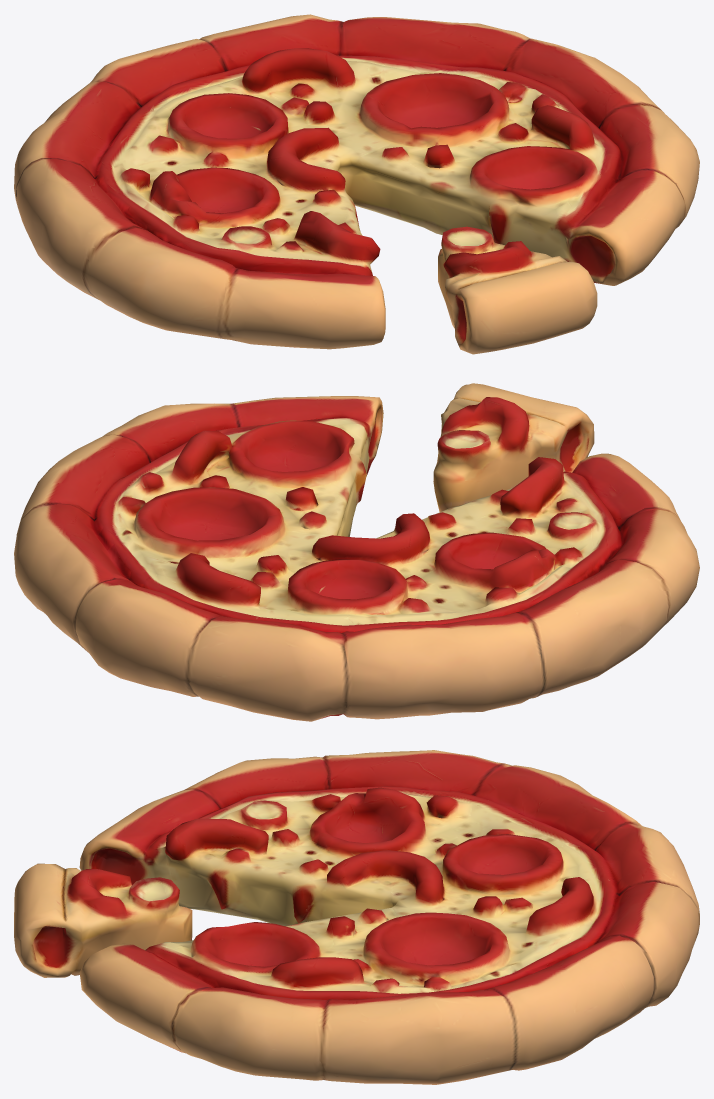
File: pizza.glb
3 renders of one model, top to bottom at view 1: azimuth 30°, elevation 25°; view 2: azimuth 150°, elevation 25°; view 3: azimuth 270°, elevation 25°, orthographic. The views are drawn at different scales.
Visible parts, largest first — view 1: Mesh_0; view 2: Mesh_0; view 3: Mesh_0.
Boxes of the visible parts, bbox=[...] form: Mesh_0: bbox=[14, 14, 699, 354]; Mesh_0: bbox=[14, 383, 699, 721]; Mesh_0: bbox=[14, 750, 699, 1084].
Size of the model in its own units: 0.6673 by 0.1 by 0.6832.
Materials: 1 (1 with a texture image).
